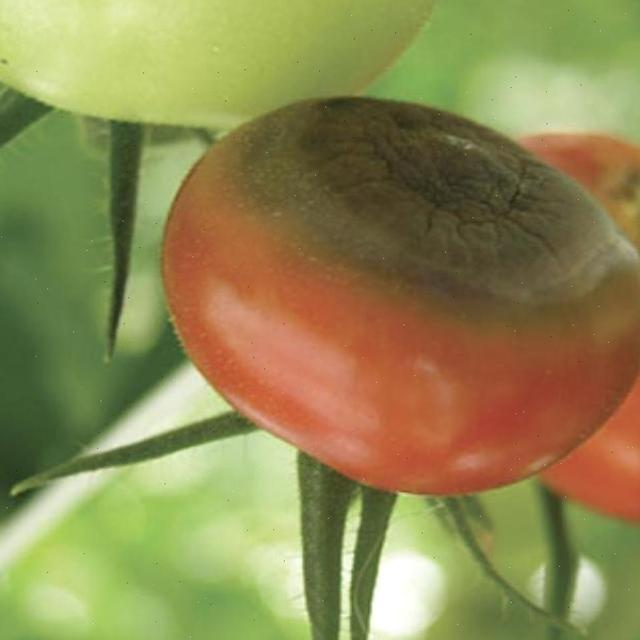Blossom End Rot Fruit: (140, 69, 426, 224)
